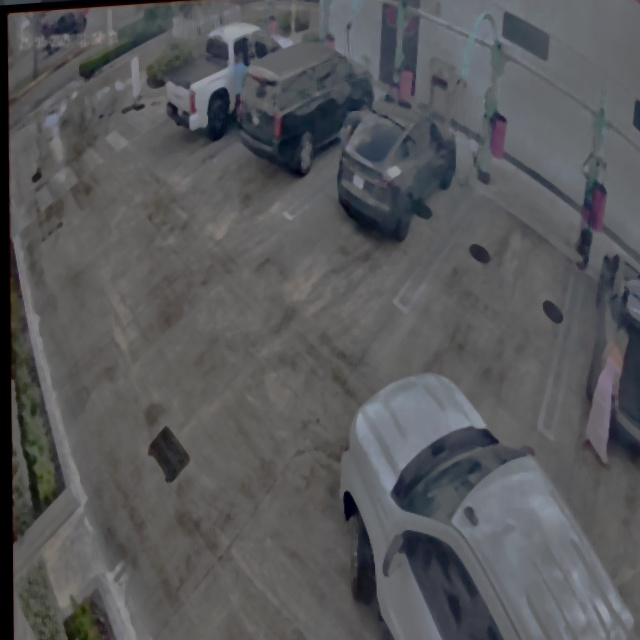Car: (340, 358, 640, 640), (338, 96, 458, 245), (238, 45, 376, 174)
